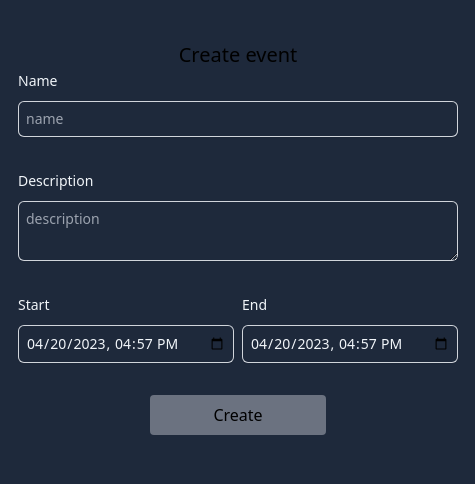
Test: Create Event › with invalid input › shows an error message when end date is before start date
Type "Test Event" into the field labelled "Name".
click(238, 119); type("Test Event")  # box [18,101,458,137]
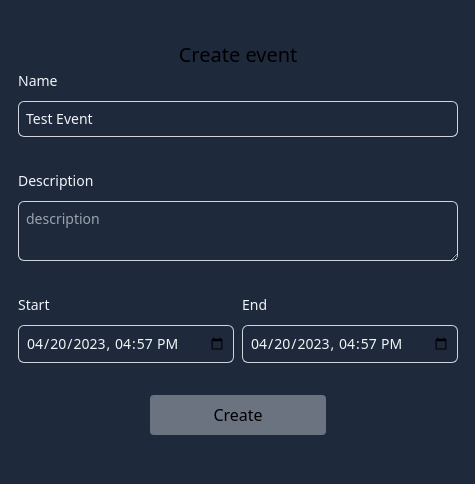
Type "Test Description" into the text box labelled "Description".
click(238, 231); type("Test Description")  # box [18,201,458,261]
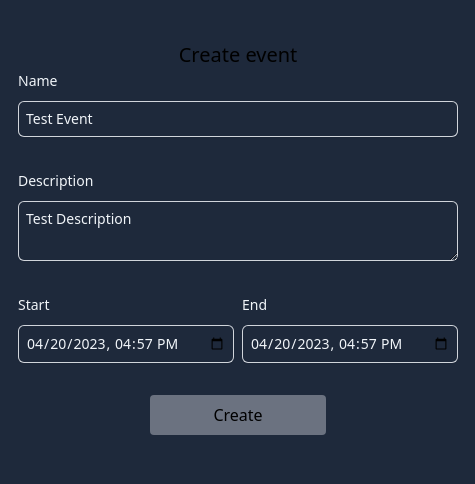
Replace the text in the field labelled "Start" with "2021-09-01T09:00" at (126, 344), box [18,325,234,363]
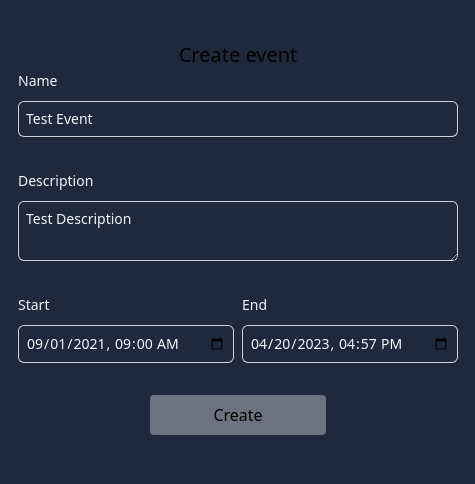
Replace the text in the field labelled "End" with "2021-09-01T08:00" at (350, 344), box [242,325,458,363]
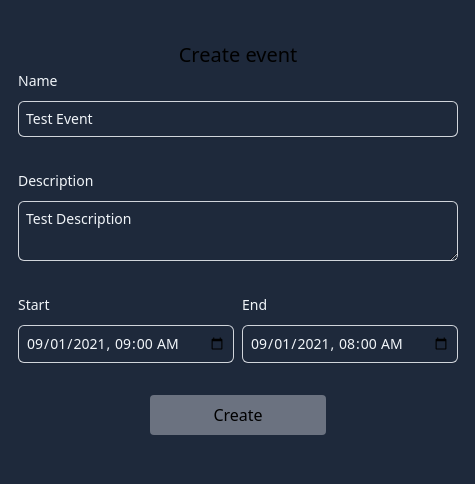
Submit the form from the button, box [150,395,326,435]
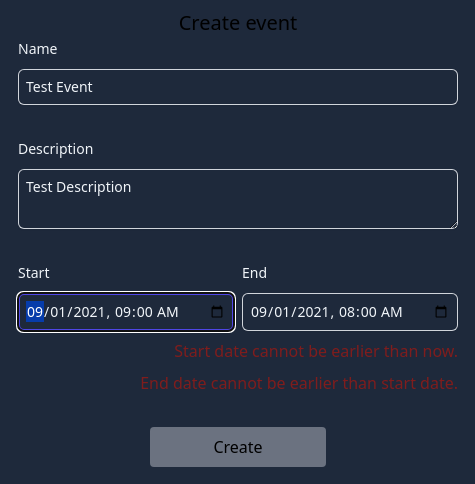
Expected: the button is disabled, [150,427,326,467]
Result: the text with test id "error-end" reads "End date cannot be earlier than start date." at [140,372,458,394]
